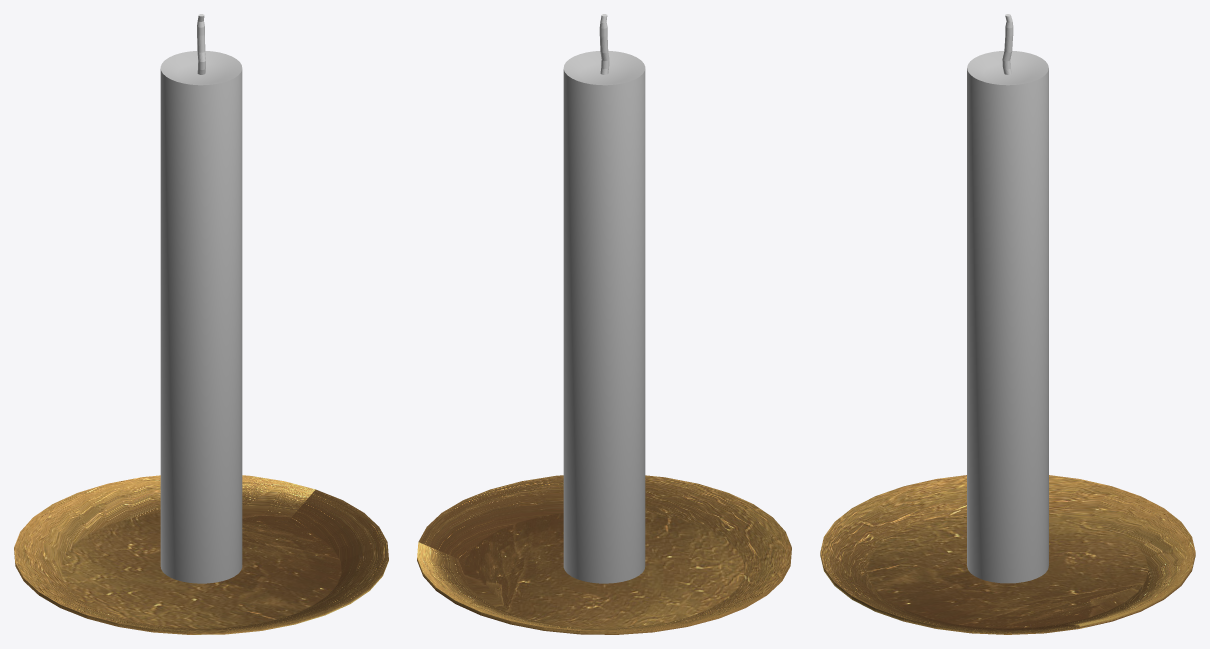
Rendered from candle.fbx.
The picture shows the model from 3 angles, left to right: view 1: azimuth 30°, elevation 25°; view 2: azimuth 150°, elevation 25°; view 3: azimuth 270°, elevation 25°; orthographic projection.
Parts seen in each view (by area): view 1: Cylinder, Cylinder.002; view 2: Cylinder, Cylinder.002; view 3: Cylinder, Cylinder.002.
Part boxes in pixels (x1,y1,x2,y2): Cylinder: (160, 51, 242, 583); Cylinder.002: (14, 475, 388, 634); Cylinder: (563, 51, 645, 583); Cylinder.002: (417, 475, 791, 634); Cylinder: (967, 51, 1048, 583); Cylinder.002: (820, 475, 1195, 634).
Size of the model in its own units: 79.2 by 130 by 79.2.
